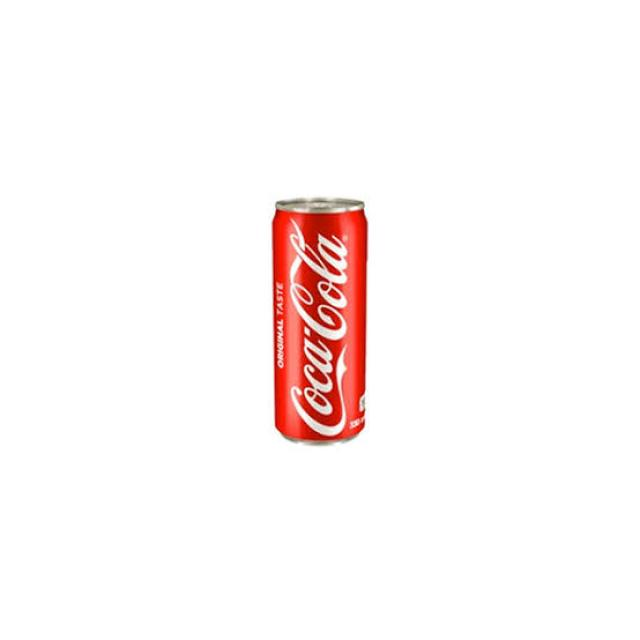metal: (252, 179, 394, 459)
